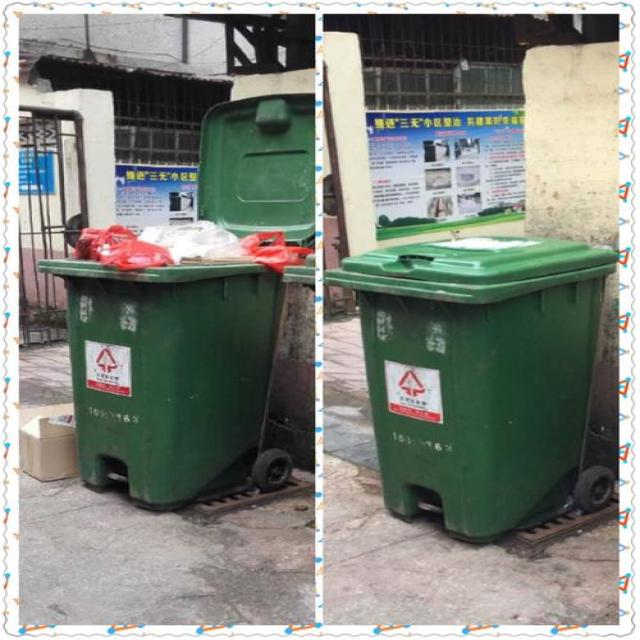garbage_bin: (325, 233, 618, 542)
overflow: (35, 219, 314, 511)
